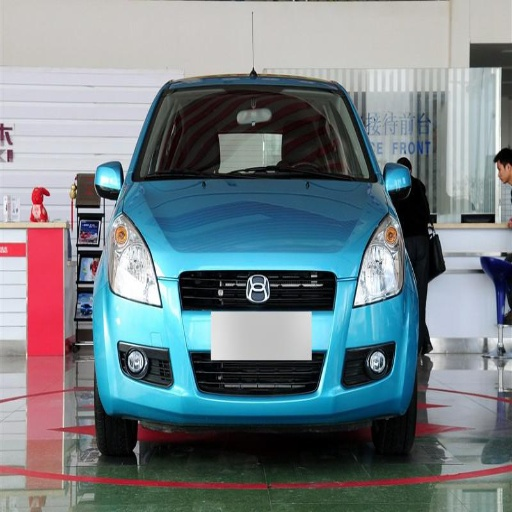front_bumper: (100, 277, 416, 434)
front_right_light: (110, 219, 161, 306)
hood: (120, 180, 387, 278)
